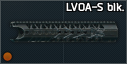AR-15 War Sport LVOA-S handguard Black: (0, 0, 127, 64)
